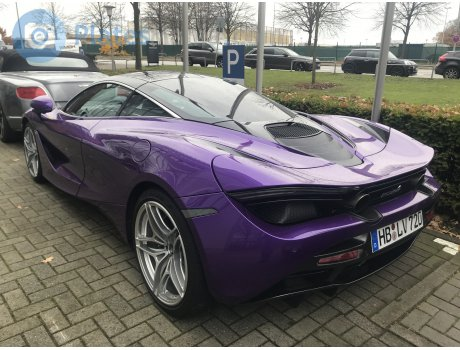License Plates: (384, 214, 423, 232), (332, 229, 337, 235), (380, 228, 384, 234)
